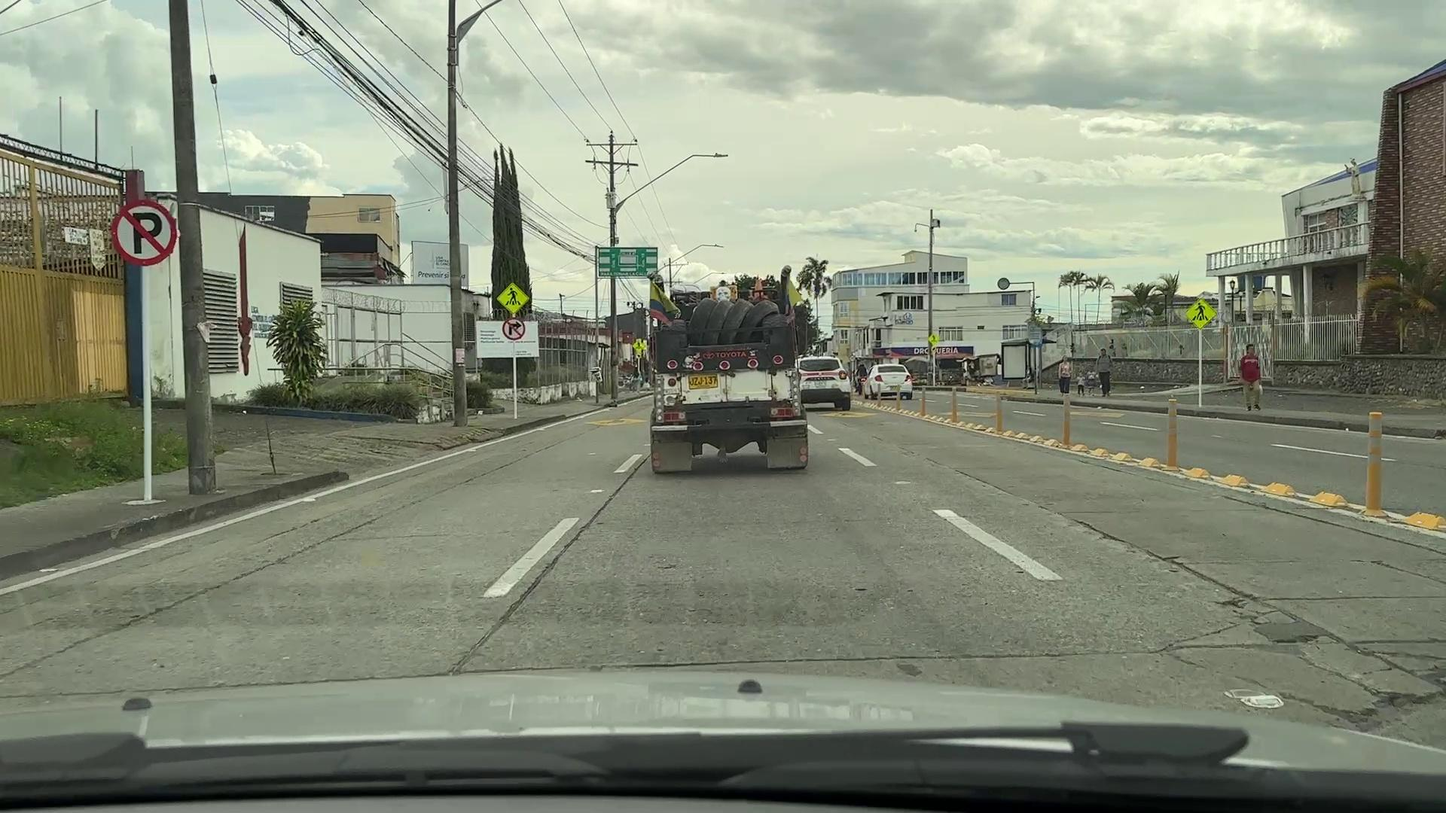bache: (1278, 645, 1445, 749), (1209, 587, 1343, 645)
grieta: (1151, 623, 1329, 689), (1072, 519, 1227, 589), (1258, 596, 1445, 609), (1350, 560, 1445, 585), (1347, 637, 1445, 644)
